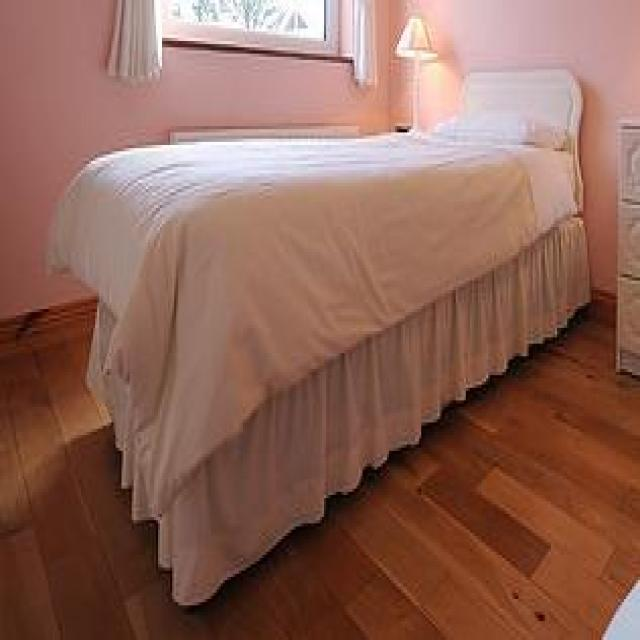bed: (44, 67, 592, 606)
